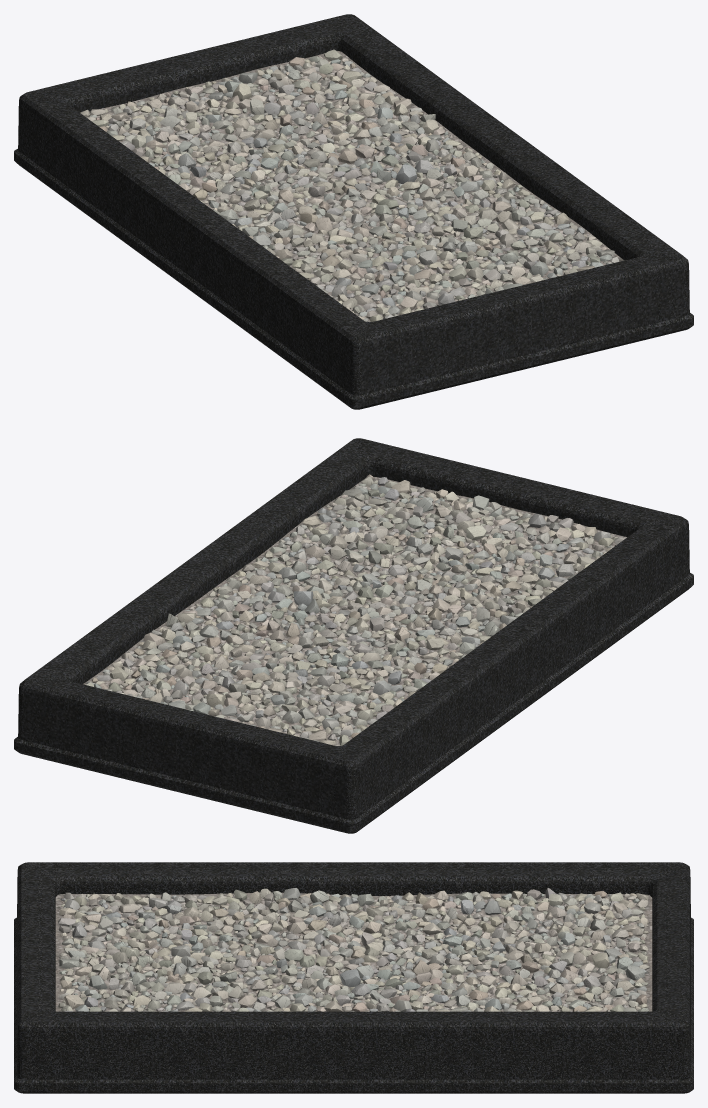
Rendered from flower-rect-marble.glb.
The picture shows the model from 3 angles, top to bottom: view 1: azimuth 30°, elevation 25°; view 2: azimuth 150°, elevation 25°; view 3: azimuth 270°, elevation 25°; orthographic projection.
Visible parts, largest first — view 1: SM_flower_rect_marble; view 2: SM_flower_rect_marble; view 3: SM_flower_rect_marble.
Boxes of the visible parts, x1,y1,x2,y2 form: SM_flower_rect_marble: [14, 14, 693, 409]; SM_flower_rect_marble: [14, 438, 693, 833]; SM_flower_rect_marble: [14, 862, 693, 1093].
Bounding box in the file's own units: 0.66 × 0.128 × 1.14.
4 materials, 4 textured.
